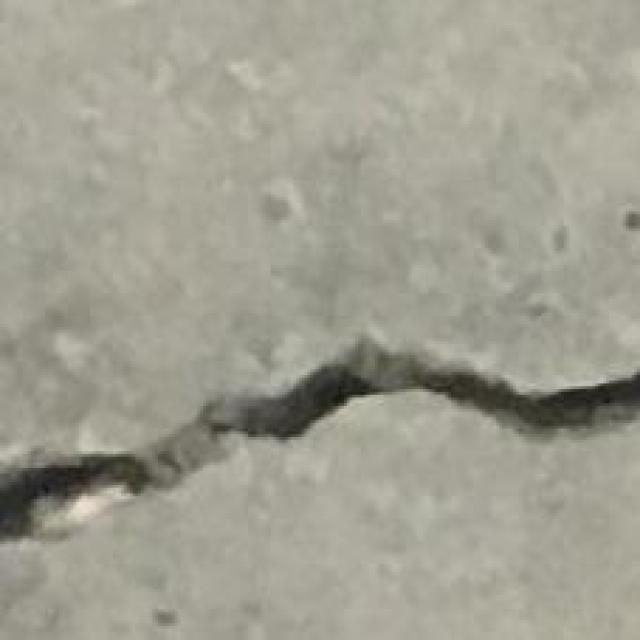horizontal crack: (0, 338, 639, 541)
